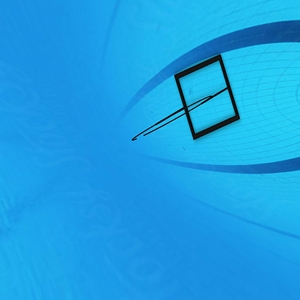circle: (132, 52, 242, 153)
